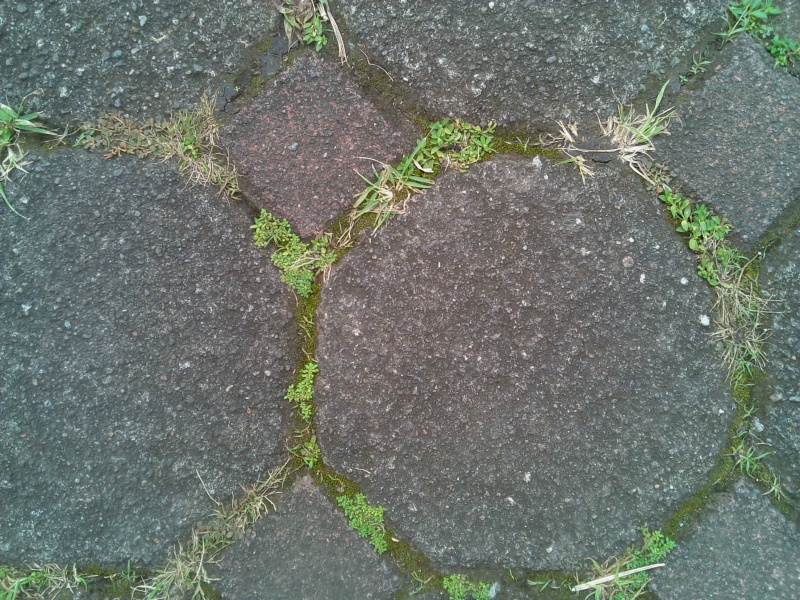Weed: (659, 180, 739, 284), (248, 207, 337, 299), (712, 275, 777, 378), (172, 102, 245, 192), (72, 109, 175, 166), (598, 102, 669, 172), (141, 546, 223, 600), (355, 151, 422, 217), (420, 113, 495, 171), (617, 529, 678, 600), (331, 487, 393, 555), (1, 555, 90, 600), (219, 468, 284, 528), (570, 549, 645, 600), (545, 109, 595, 184), (266, 1, 334, 56), (717, 1, 776, 44), (282, 359, 324, 419), (765, 31, 800, 79), (729, 437, 767, 480), (437, 573, 491, 600), (296, 430, 325, 470), (683, 49, 710, 85)
